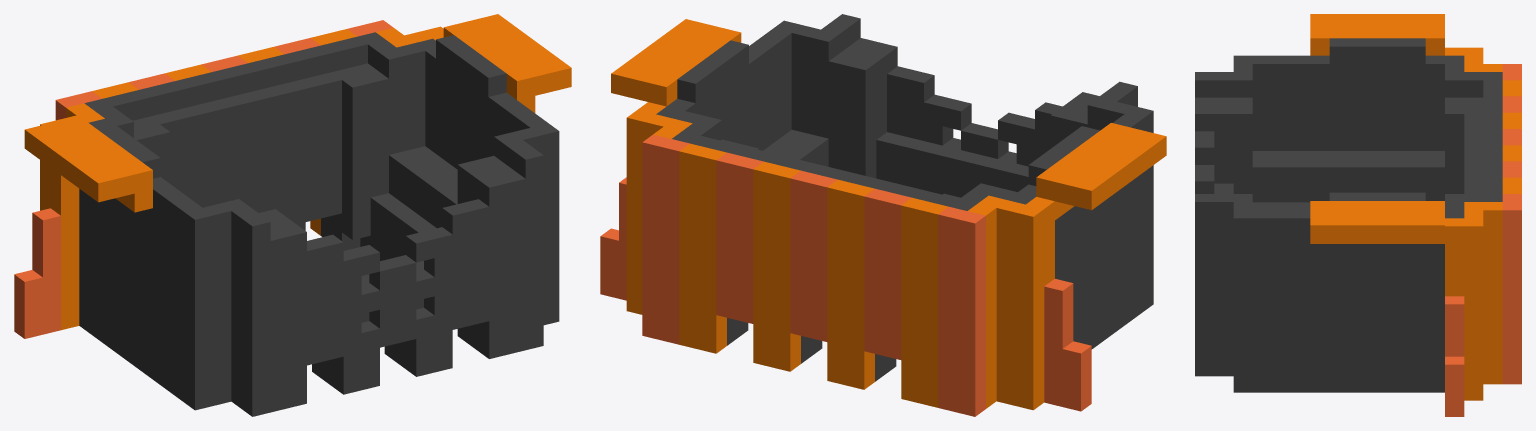
3 views of the same model, side by side, from view 1: azimuth 30°, elevation 25°; view 2: azimuth 150°, elevation 25°; view 3: azimuth 270°, elevation 25° (orthographic). The views are drawn at different scales.
Parts seen in each view (by area): view 1: 102; view 2: 102; view 3: 102.
Part boxes in pixels (x1=…): 102: x1=14, y1=14, x2=571, y2=416; 102: x1=600, y1=14, x2=1166, y2=416; 102: x1=1195, y1=14, x2=1521, y2=416.
Size of the model in its own units: 260 by 110 by 170.
Materials: 1 (1 with a texture image).
